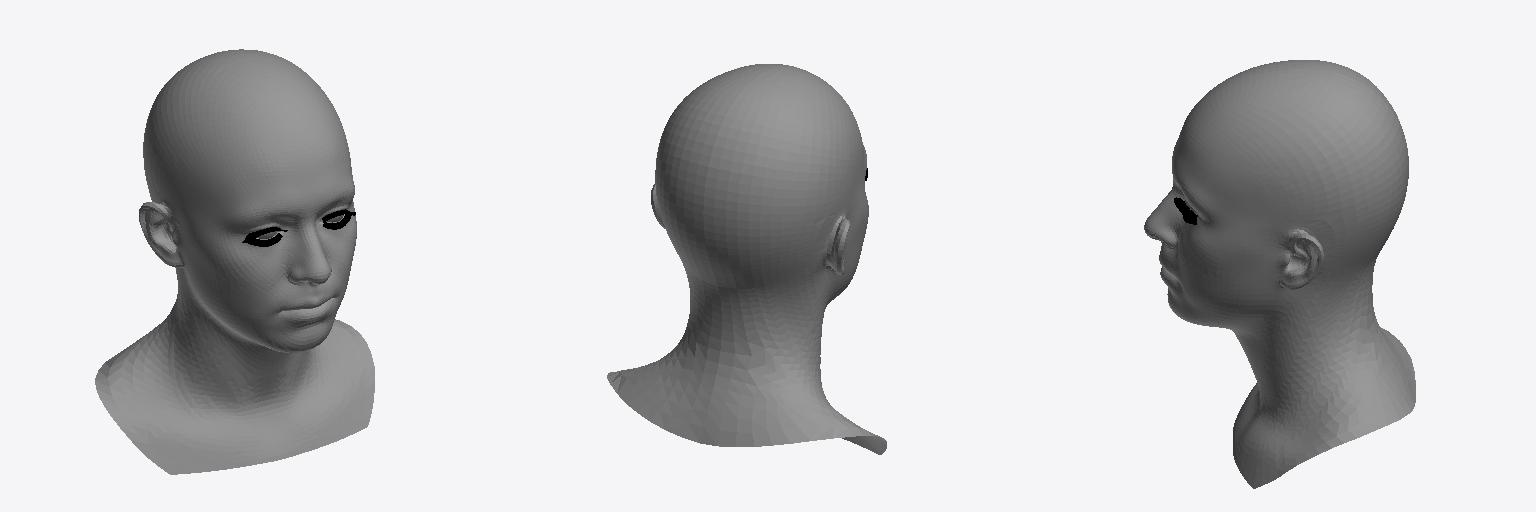
The model's file is mouthPress_L.obj.
The picture shows the model from 3 angles: view 1: azimuth 30°, elevation 25°; view 2: azimuth 150°, elevation 25°; view 3: azimuth 270°, elevation 25°; orthographic projection.
Bounding box in the file's own units: 24.83 × 33.81 × 22.27.